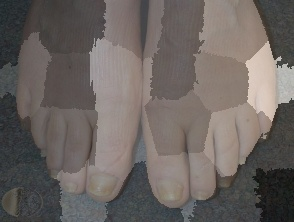Nail_psoriasis: (83, 166, 121, 203), (154, 178, 186, 207), (190, 190, 211, 201), (63, 181, 79, 194), (217, 178, 233, 188), (47, 168, 61, 179), (38, 147, 49, 158), (20, 119, 30, 131), (238, 155, 248, 166), (260, 132, 270, 140)
